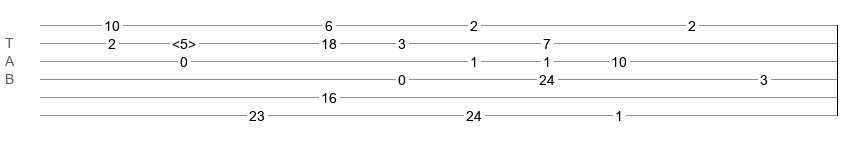0: (180, 54, 188, 64), (398, 72, 406, 82)
1: (470, 54, 478, 64), (543, 54, 551, 64), (615, 108, 623, 118)
10: (104, 18, 120, 28), (611, 54, 627, 64)
16: (321, 90, 337, 100)
18: (321, 36, 337, 46)
2: (108, 36, 116, 46), (470, 18, 478, 28), (688, 18, 696, 28)
23: (249, 108, 265, 118)
24: (466, 108, 482, 118), (539, 72, 555, 82)
3: (398, 36, 406, 46), (760, 72, 768, 82)
6: (325, 18, 333, 28)
7: (543, 36, 551, 46)
harmonic: (172, 36, 196, 46)
